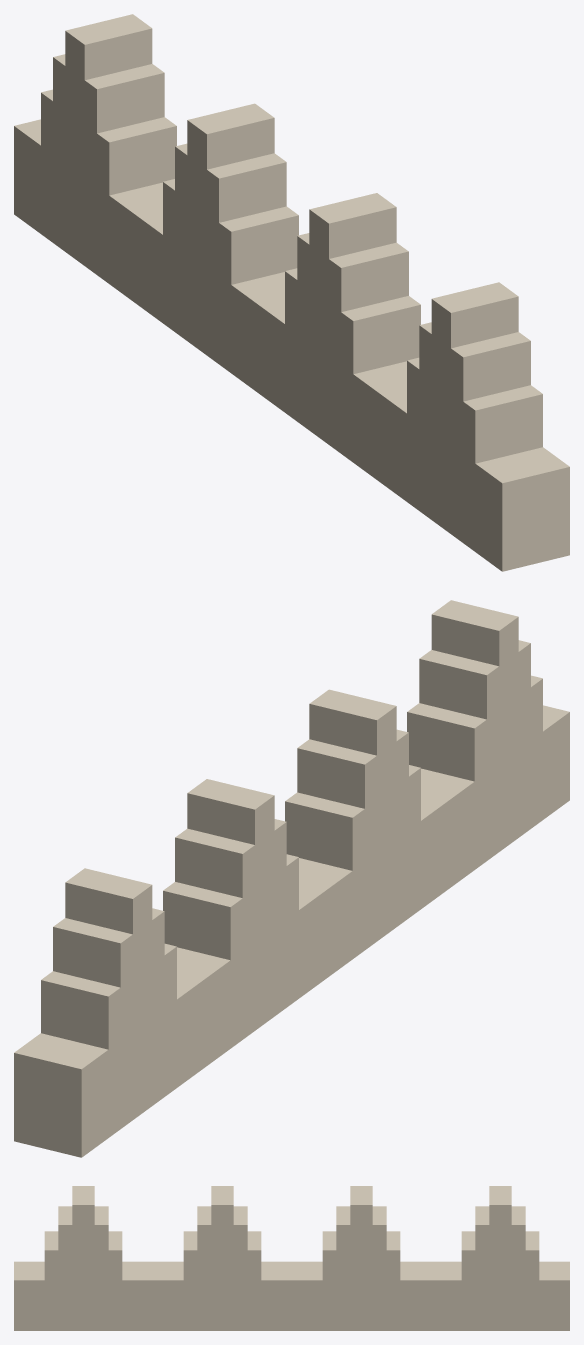
The model's file is merlon-stepped.glb.
The picture shows the model from 3 angles, top to bottom: view 1: azimuth 30°, elevation 25°; view 2: azimuth 150°, elevation 25°; view 3: azimuth 270°, elevation 25°; orthographic projection. The views are drawn at different scales.
Parts seen in each view (by area): view 1: merlon-stepped; view 2: merlon-stepped; view 3: merlon-stepped.
Part boxes in pixels (x1,y1,x2,y2): merlon-stepped: (14, 14, 569, 571); merlon-stepped: (14, 600, 569, 1157); merlon-stepped: (14, 1186, 569, 1330).
Size of the model in its own units: 0.08 by 0.25 by 1.
